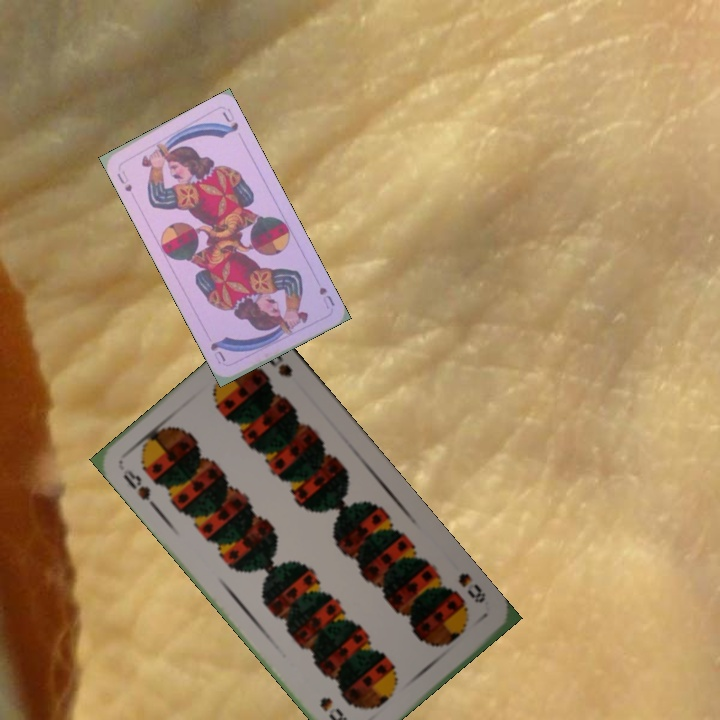S8: (119, 465, 161, 513), (454, 568, 488, 606)
SU: (315, 283, 337, 311), (113, 166, 135, 194)
